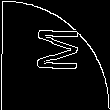M_W: (29, 32, 81, 78)
